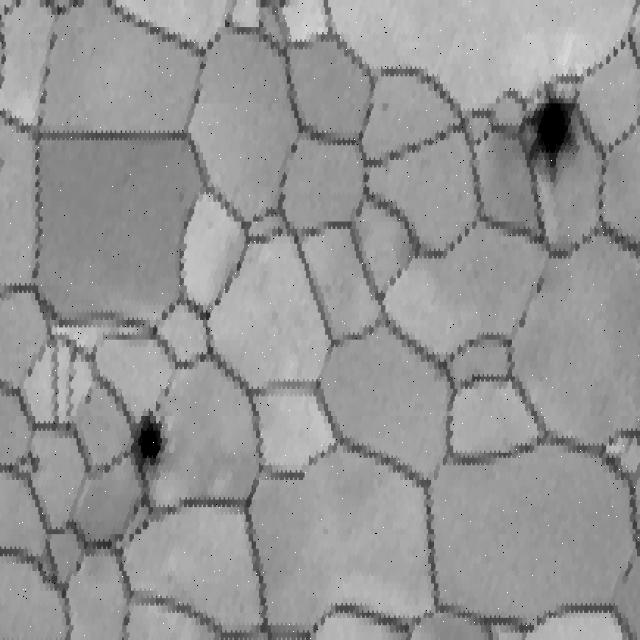good_void: (522, 83, 582, 187), (131, 405, 170, 487), (27, 450, 45, 480), (379, 98, 390, 115)
